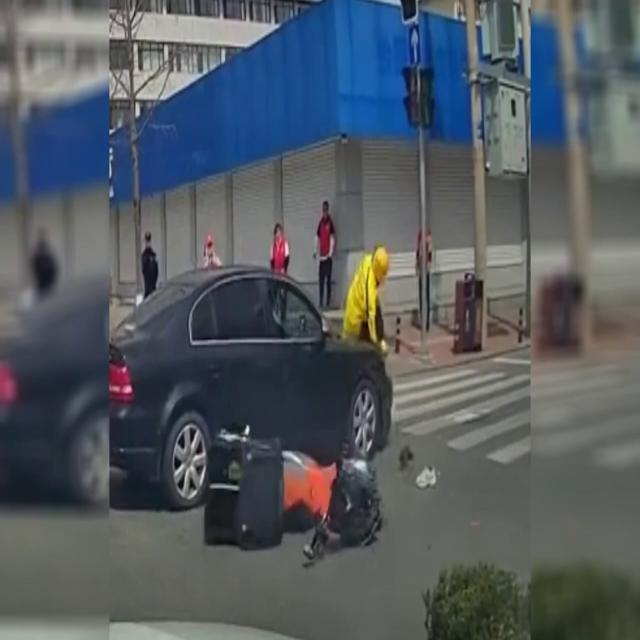multiple_accident: (126, 259, 421, 566)
